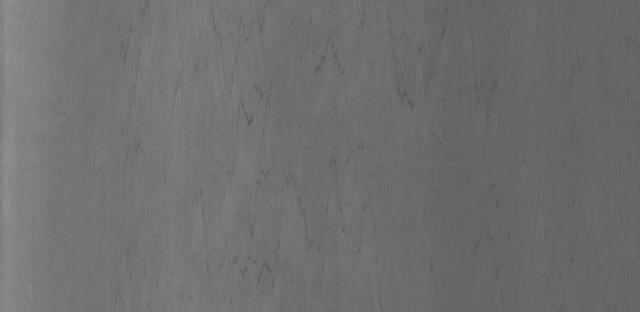silk_spot: (185, 1, 450, 257)
